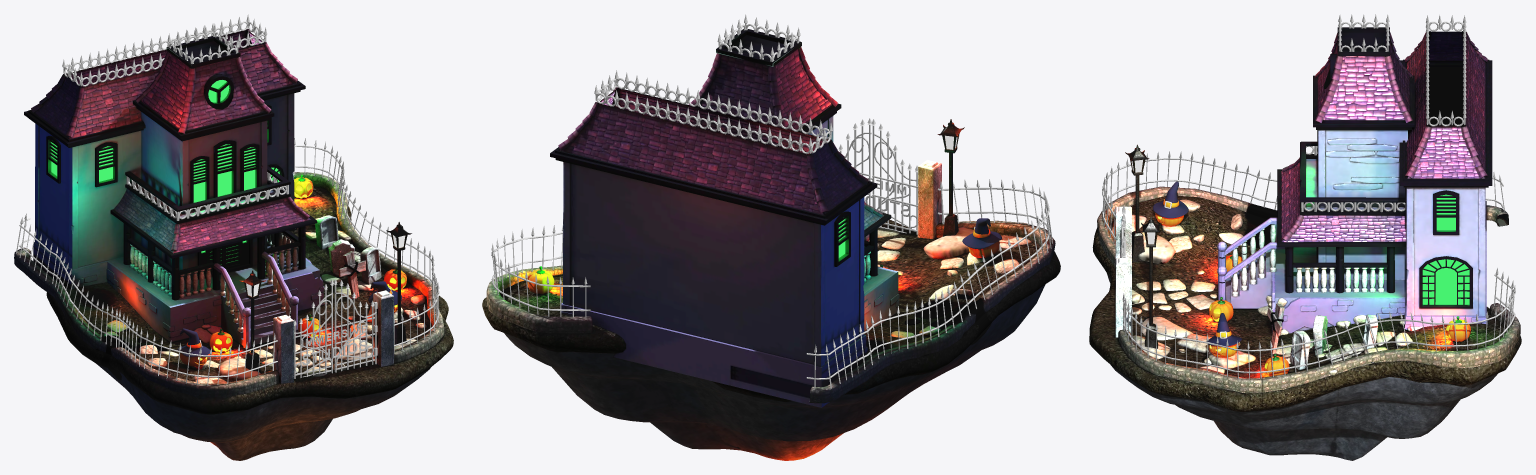
Rendered from Big_Island-transformed.glb.
3 views of the same model, side by side, from view 1: azimuth 30°, elevation 25°; view 2: azimuth 150°, elevation 25°; view 3: azimuth 270°, elevation 25° (orthographic). The views are drawn at different scales.
Parts seen in each view (by area): view 1: Ground_Baked; view 2: Ground_Baked; view 3: Ground_Baked.
Part boxes in pixels (box(x1,y1,x2,y2)): Ground_Baked: box(14, 14, 453, 460); Ground_Baked: box(482, 14, 1060, 460); Ground_Baked: box(1089, 14, 1521, 460).
Size of the model in its own units: 9.45 by 9.96 by 9.75.
5 materials, 3 textured.
